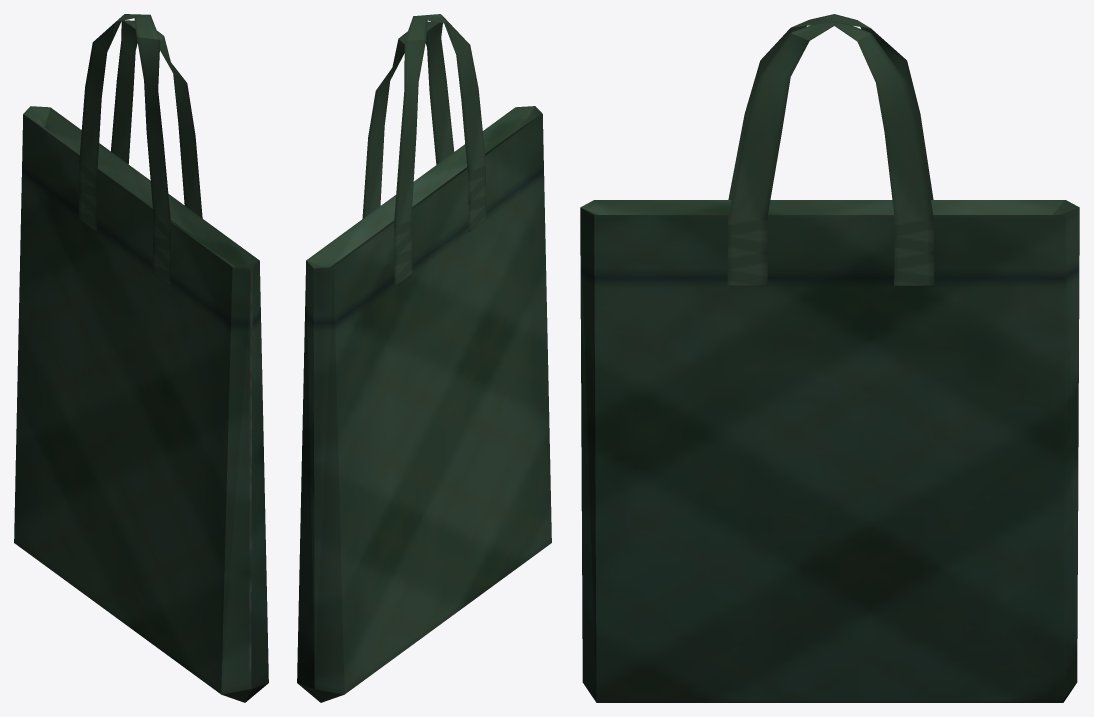
The model's file is bag_typeB3_nig.FBX.
The picture shows the model from 3 angles, left to right: view 1: azimuth 30°, elevation 25°; view 2: azimuth 150°, elevation 25°; view 3: azimuth 270°, elevation 25°; orthographic projection. The views are drawn at different scales.
Parts seen in each view (by area): view 1: bag_typeB3_nig; view 2: bag_typeB3_nig; view 3: bag_typeB3_nig.
Part boxes in pixels (x1,y1,x2,y2): bag_typeB3_nig: (14,14,268,702); bag_typeB3_nig: (297,14,551,702); bag_typeB3_nig: (580,14,1079,702).
Bounding box in the file's own units: 3.46 × 42.36 × 27.94.
